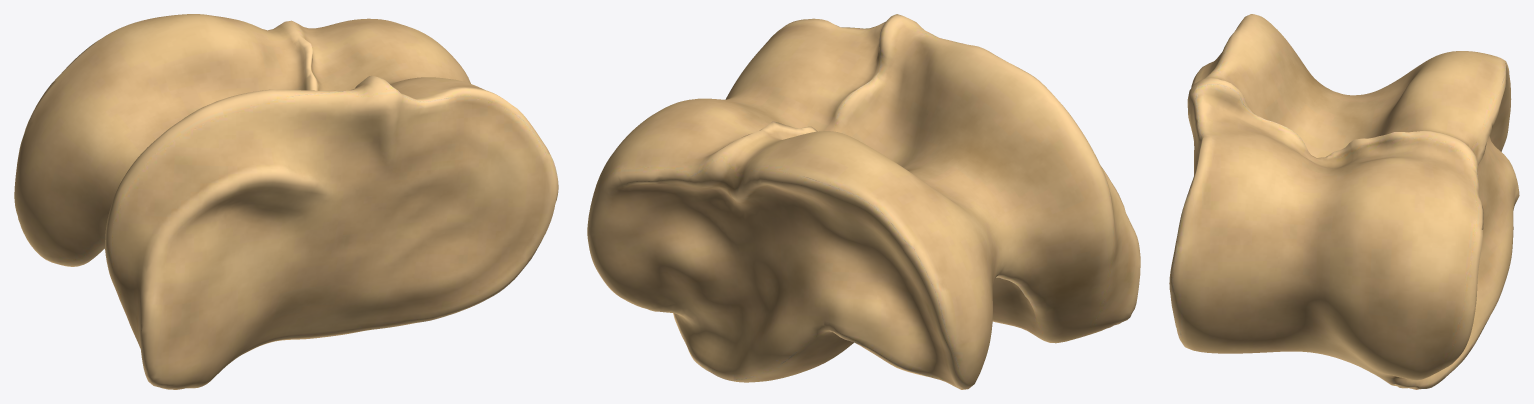
File: Assyq.fbx
The picture shows the model from 3 angles, left to right: view 1: azimuth 30°, elevation 25°; view 2: azimuth 150°, elevation 25°; view 3: azimuth 270°, elevation 25°; orthographic projection. The views are drawn at different scales.
Visible parts, largest first — view 1: Assyq; view 2: Assyq; view 3: Assyq.
Part boxes in pixels (x1,y1,x2,y2): Assyq: (14,14,558,389); Assyq: (587,14,1140,389); Assyq: (1169,14,1519,389).
Size of the model in its own units: 22.32 by 14.15 by 16.46.
